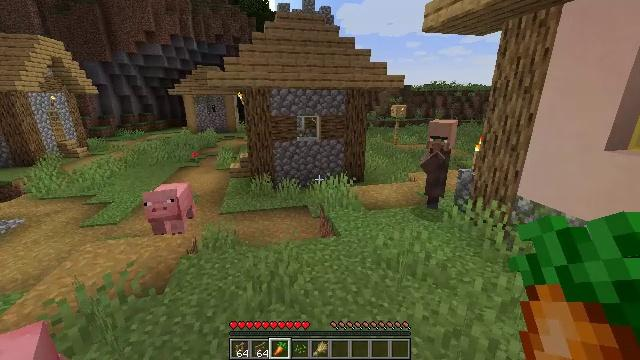pig: (145, 183, 194, 234)
